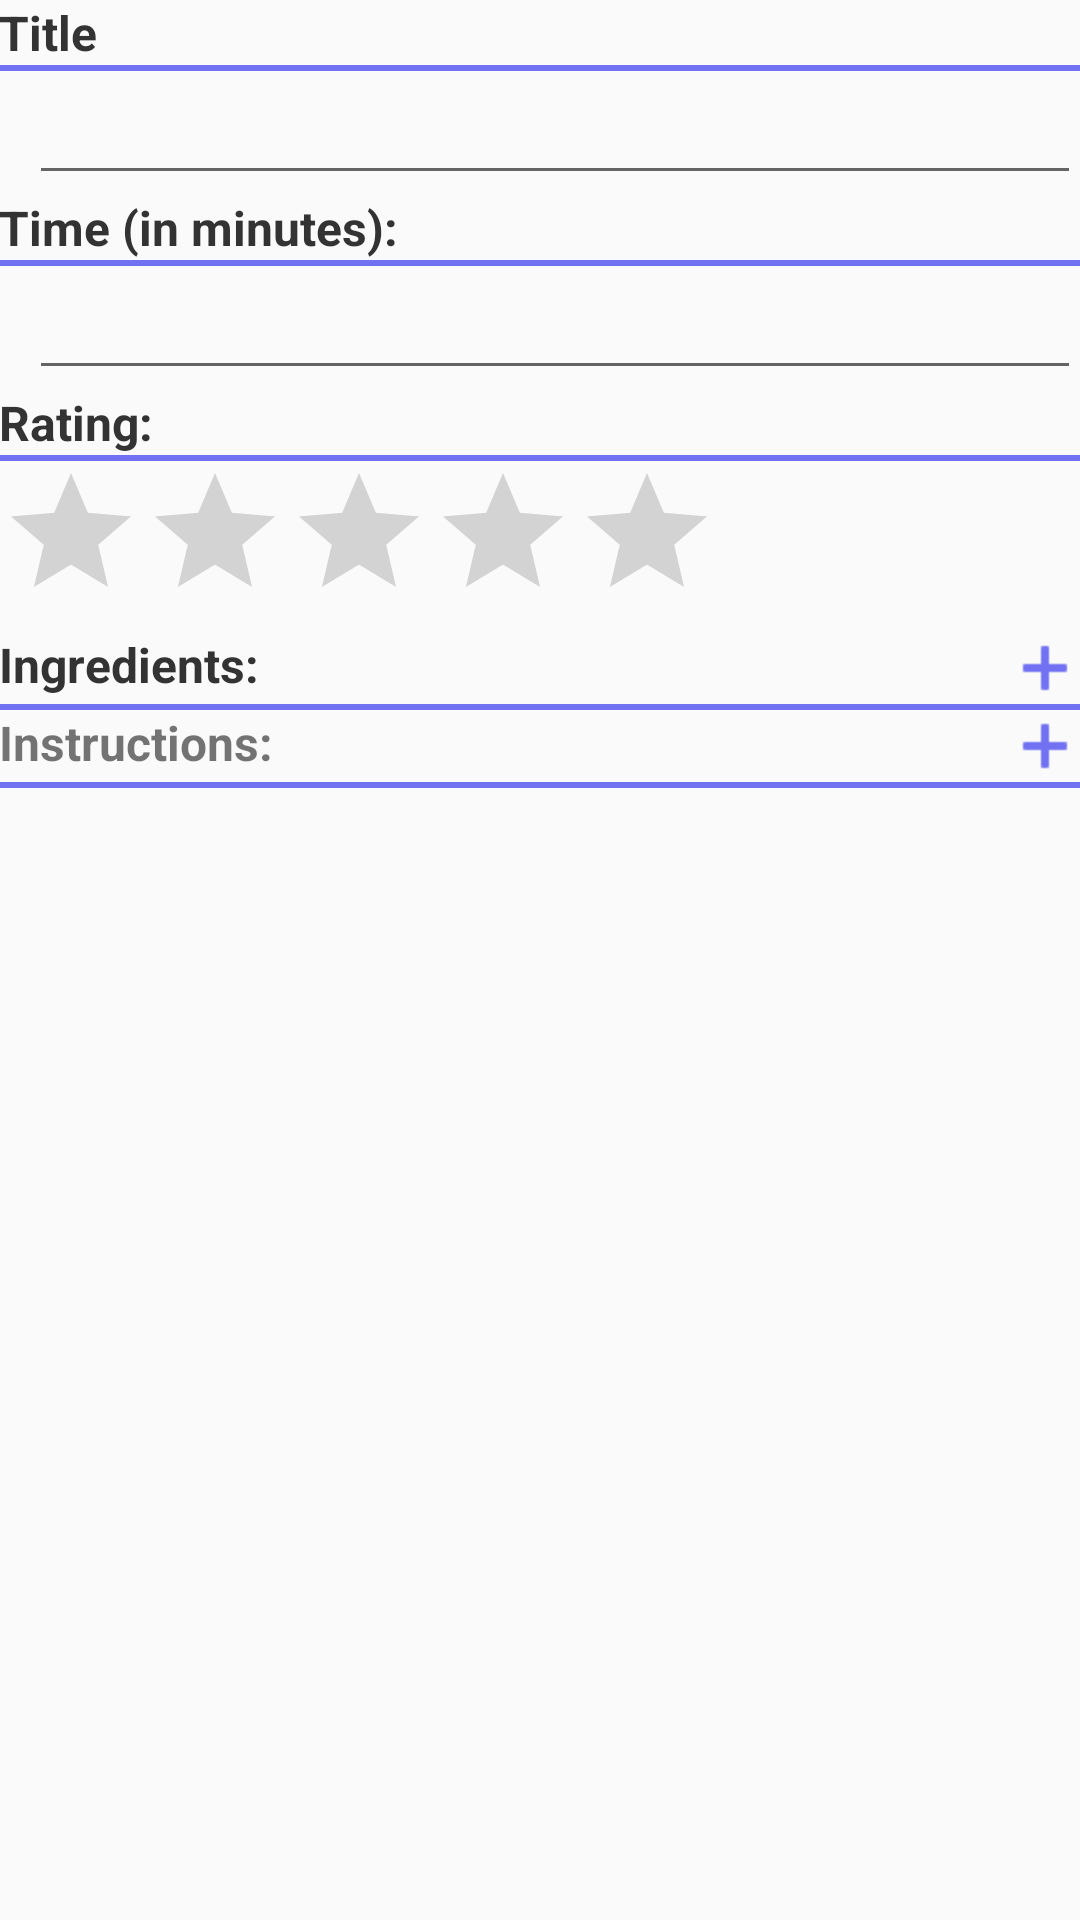

Screen size 1080*1920. Icon name, then its center in pixels as [x,y]:
add ness: [1045,668], [1045,746]
